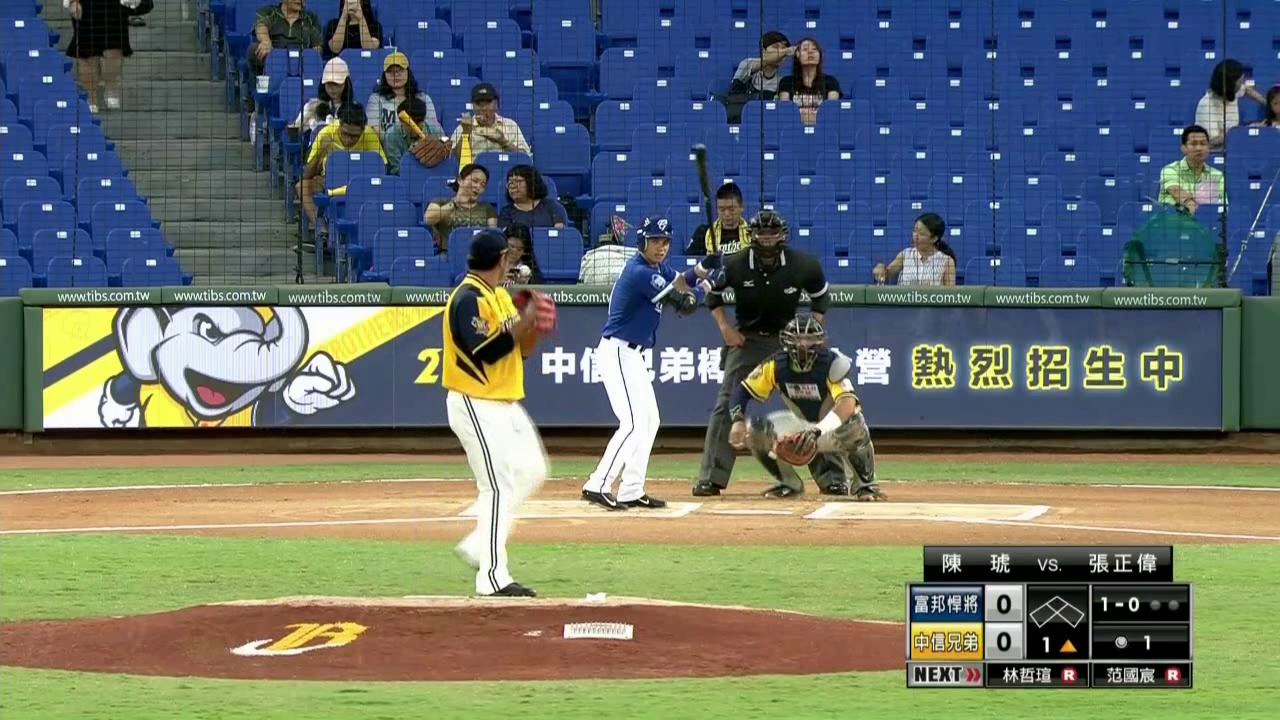ball: (524, 299, 533, 315)
base: (1029, 594, 1088, 631)
bat: (687, 141, 722, 265)
out: (1144, 590, 1183, 615)
score1: (986, 589, 1022, 617)
score2: (983, 625, 1022, 657)
session: (1032, 634, 1086, 657)
strikeball: (1097, 592, 1142, 617)
total: (1103, 628, 1173, 656)
